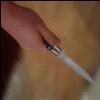melee: (46, 43, 96, 84)
